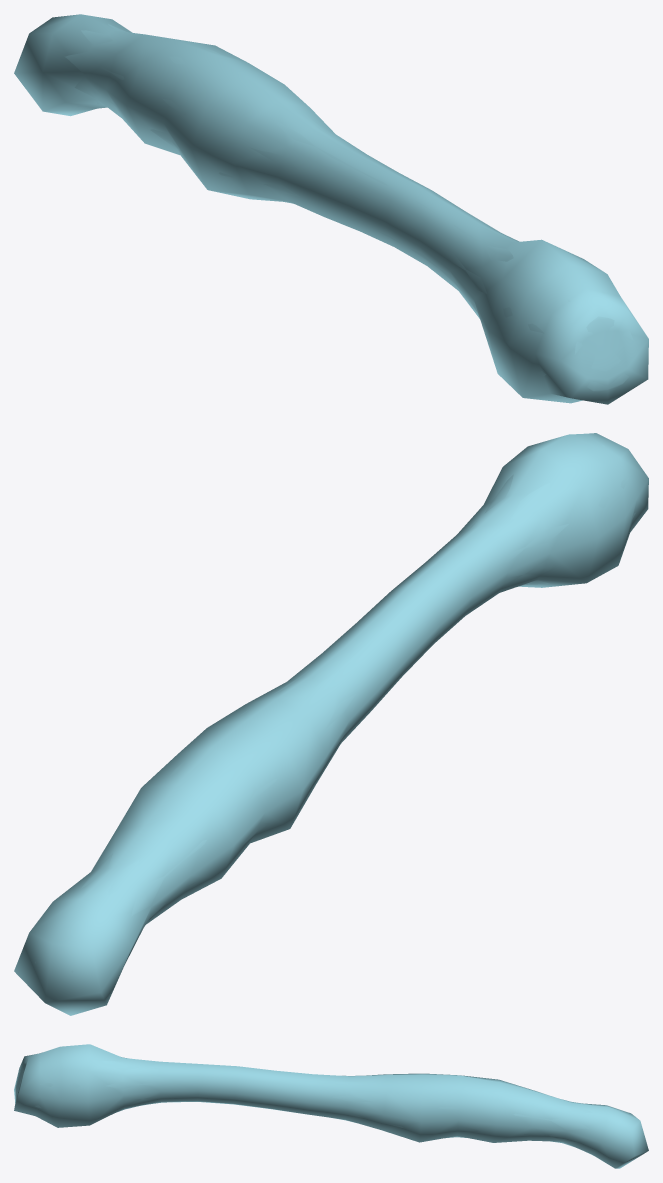
File: Sternum Cartilages.fbx
The picture shows the model from 3 angles, top to bottom: view 1: azimuth 30°, elevation 25°; view 2: azimuth 150°, elevation 25°; view 3: azimuth 270°, elevation 25°; orthographic projection. The views are drawn at different scales.
Visible parts, largest first — view 1: Sternum Cartilages low, Sternum Cartilages; view 2: Sternum Cartilages low, Sternum Cartilages; view 3: Sternum Cartilages low, Sternum Cartilages.
Part boxes in pixels (box(x1,y1,x2,y2)): Sternum Cartilages low: box(14, 14, 648, 404); Sternum Cartilages: box(64, 24, 633, 398); Sternum Cartilages low: box(14, 433, 648, 1015); Sternum Cartilages: box(34, 445, 635, 972); Sternum Cartilages low: box(14, 1044, 648, 1168); Sternum Cartilages: box(15, 1057, 638, 1155).
Bounding box in the file's own units: 0.4238 × 0.7702 × 3.56.
